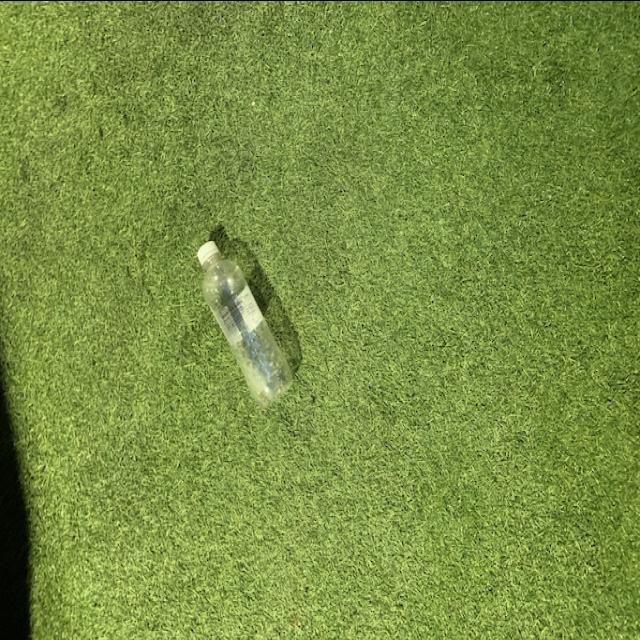litter: (196, 238, 296, 412)
